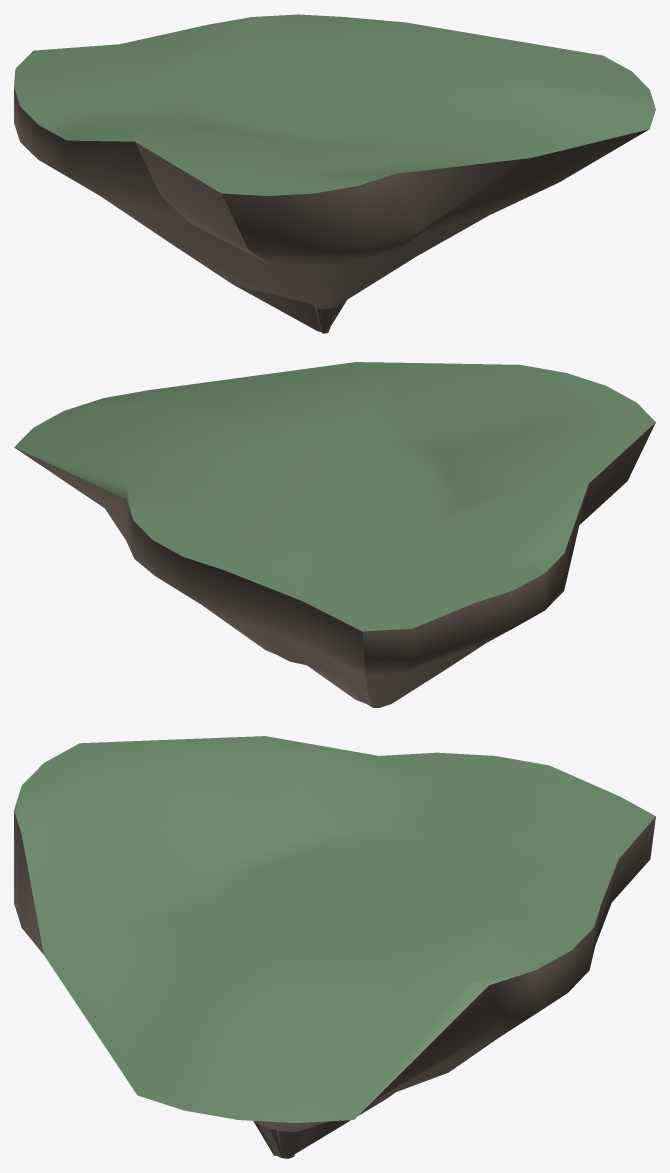
File: smallisland.fbx
3 views of the same model, one above another, from view 1: azimuth 30°, elevation 25°; view 2: azimuth 150°, elevation 25°; view 3: azimuth 270°, elevation 25° (orthographic). The views are drawn at different scales.
Visible parts, largest first — view 1: pDisc1; view 2: pDisc1; view 3: pDisc1.
Part boxes in pixels (<box>): pDisc1: <box>14,14,655,333</box>; pDisc1: <box>14,362,655,707</box>; pDisc1: <box>14,736,655,1158</box>.
Bounding box in the file's own units: 3.44 × 1.48 × 2.86.
